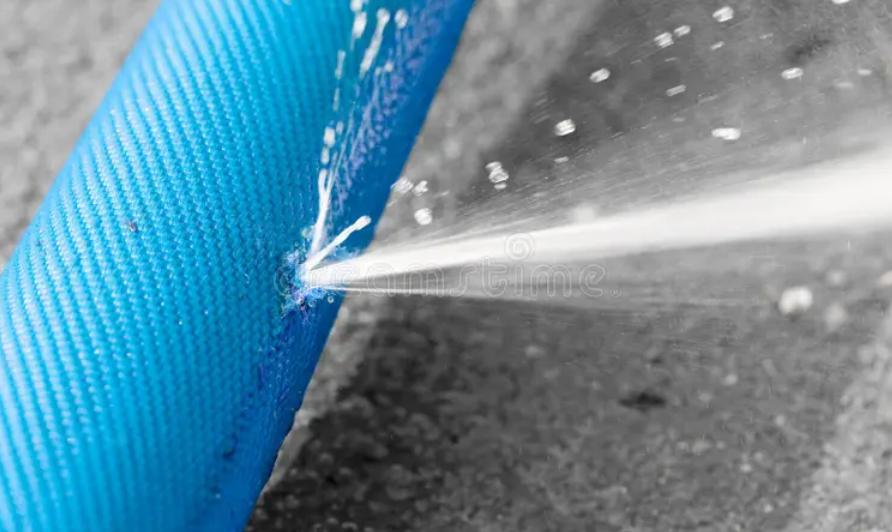pipe burst: (275, 74, 892, 312)
